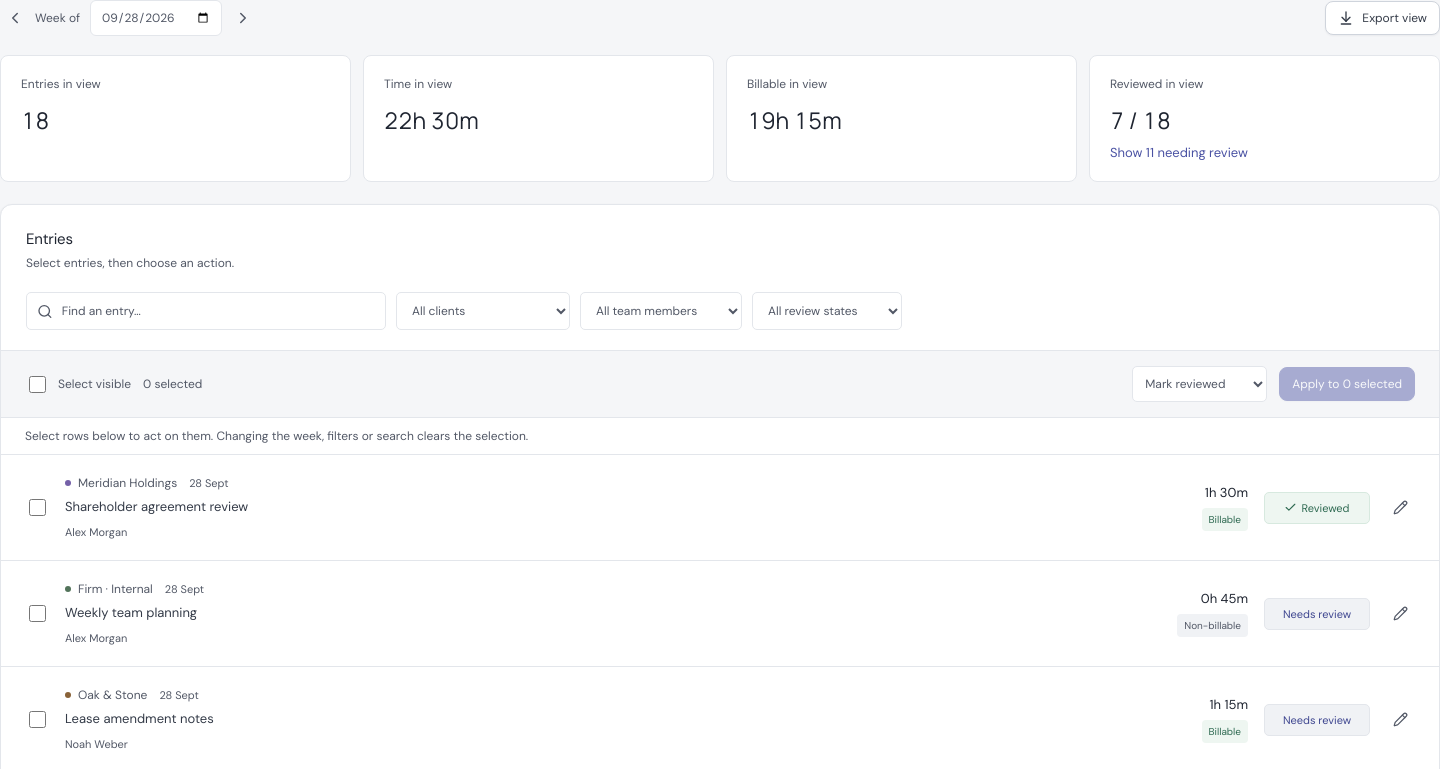
Test: Needs-review shortcut › filters the view to entries still needing review
This screenshot has width=1440, height=769.
Click the button "Show 11 needing review" at (1179, 152), box [1110,144,1248,161]
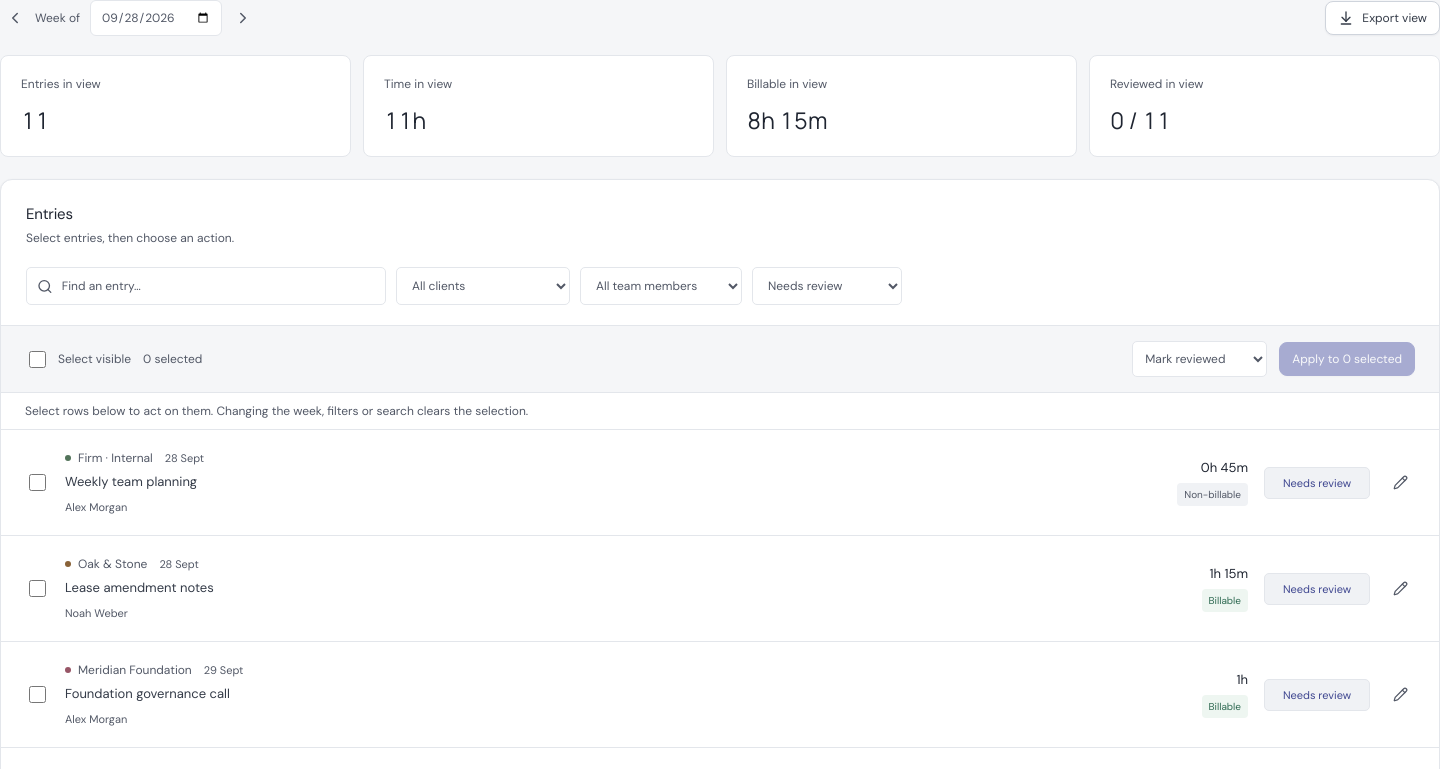
Expected: the dropdown named "Review status" shows "Needs review", [752,267,902,305]
Expected: the number of elements with class "review-row" is 11
Expected: the button "needing review" is gone
